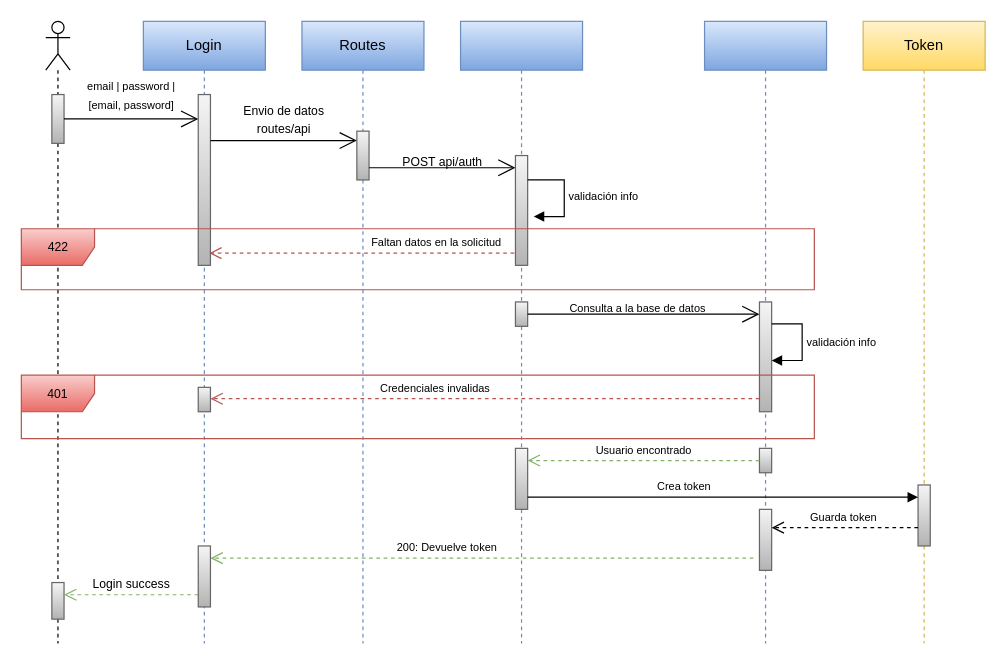
Some shapes in this 1007 by 665 pixel diagram are drawn without their labels. The shapes that lost their labels are listed below. From the top down, each one's centre as x and y in pixels, then its label:
the point at 521,332: AuthController
the point at 765,332: Base de datos
